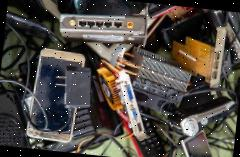electronic: (28, 42, 92, 149)
